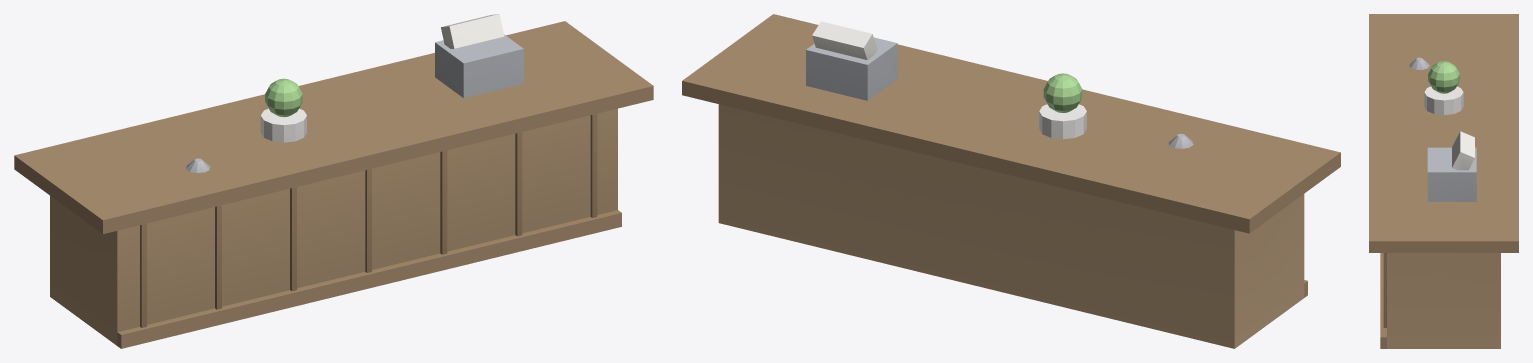
File: VShopCounter.fbx
3 views of the same model, side by side, from view 1: azimuth 30°, elevation 25°; view 2: azimuth 150°, elevation 25°; view 3: azimuth 270°, elevation 25° (orthographic). The views are drawn at different scales.
Parts seen in each view (by area): view 1: VShopCounter; view 2: VShopCounter; view 3: VShopCounter.
Part boxes in pixels (left/top/right/bottom): VShopCounter: left=14, top=14, right=653, bottom=348; VShopCounter: left=682, top=14, right=1340, bottom=348; VShopCounter: left=1369, top=14, right=1518, bottom=348.
Bounding box in the file's own units: 3.3 × 1.13 × 0.92.
